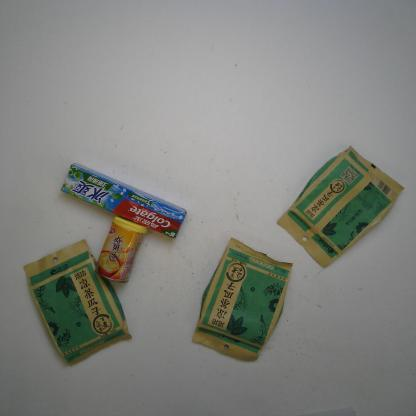Canned Food: (96, 214, 147, 285)
Dried Food: (274, 146, 406, 268), (24, 239, 134, 366), (193, 237, 292, 364)
Personal Hygiene: (59, 163, 187, 241)
